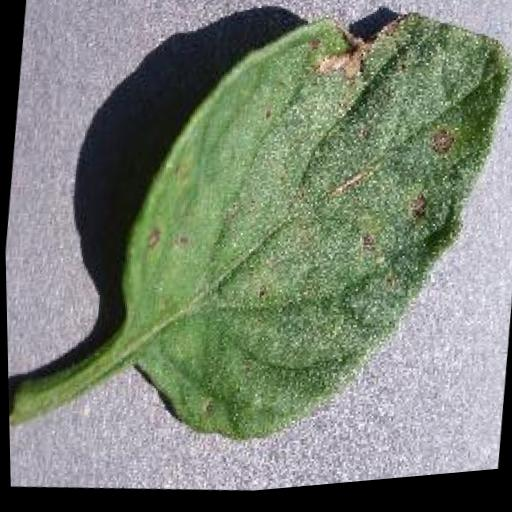Septoria: (96, 0, 512, 480)
